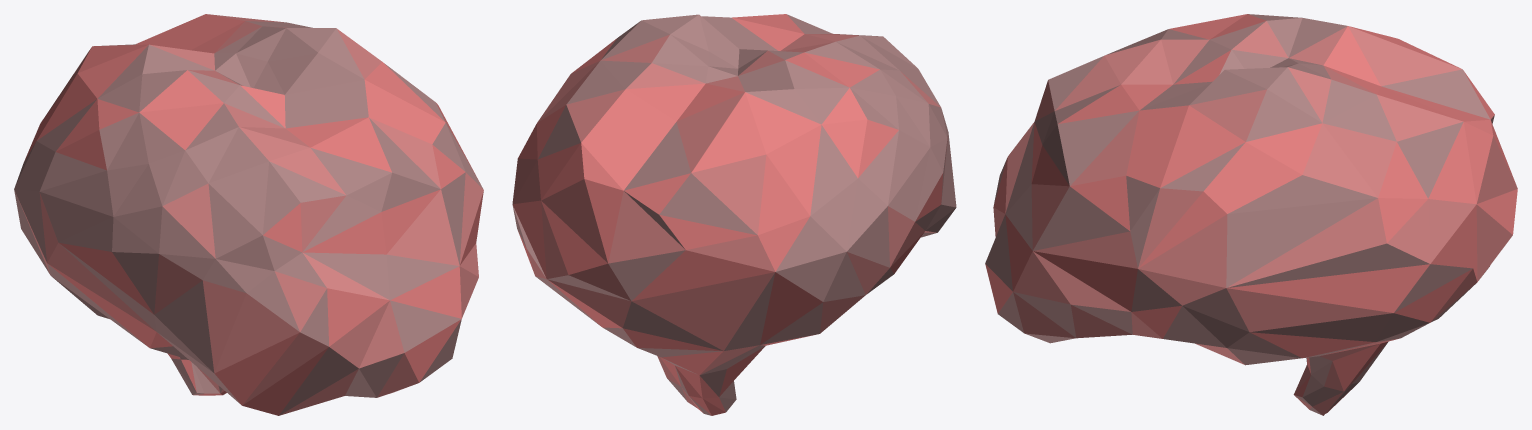
File: Mesh_Brain.fbx
The picture shows the model from 3 angles, left to right: view 1: azimuth 30°, elevation 25°; view 2: azimuth 150°, elevation 25°; view 3: azimuth 270°, elevation 25°; orthographic projection. The views are drawn at different scales.
Parts seen in each view (by area): view 1: pPlatonic1; view 2: pPlatonic1; view 3: pPlatonic1.
Boxes of the visible parts, x1=… form: pPlatonic1: x1=14, y1=14, x2=483, y2=415; pPlatonic1: x1=512, y1=14, x2=956, y2=415; pPlatonic1: x1=985, y1=14, x2=1517, y2=415.
Bounding box in the file's own units: 219 × 197 × 255.
